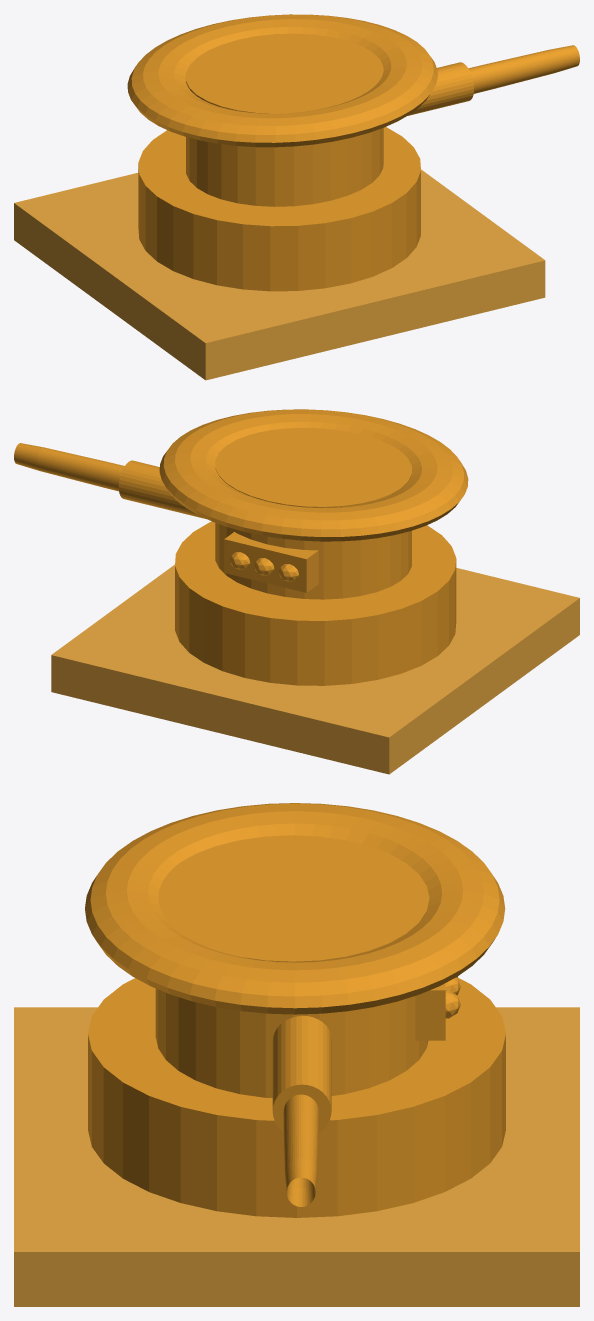
File: turrent1.fbx
The picture shows the model from 3 angles, top to bottom: view 1: azimuth 30°, elevation 25°; view 2: azimuth 150°, elevation 25°; view 3: azimuth 270°, elevation 25°; orthographic projection. The views are drawn at different scales.
Parts seen in each view (by area): view 1: Cube, Cylinder, Cylinder.001, Torus, Torus.001, Cylinder.002; view 2: Cube, Cylinder, Torus, Cylinder.001, Cube.001, Torus.001, Cylinder.002; view 3: Cube, Cylinder, Cylinder.001, Torus, Cylinder.002, Torus.001, Cube.001.
Part boxes in pixels (box(x1,y1,x2,y2)): Cube: box(14, 169, 545, 380); Cylinder: box(138, 127, 420, 291); Cylinder.001: box(186, 33, 383, 206); Torus: box(127, 14, 437, 147); Torus.001: box(468, 45, 579, 93); Cylinder.002: box(408, 62, 473, 115); Cube: box(51, 564, 579, 774); Cylinder: box(175, 521, 456, 685); Torus: box(159, 409, 468, 541); Cylinder.001: box(215, 428, 411, 599); Cube.001: box(224, 532, 318, 592); Torus.001: box(14, 443, 124, 491); Cylinder.002: box(118, 460, 205, 518); Cube: box(14, 1007, 579, 1306); Cylinder: box(88, 978, 505, 1217); Cylinder.001: box(155, 835, 429, 1097); Torus: box(85, 803, 505, 1014); Cylinder.002: box(272, 1015, 331, 1132); Torus.001: box(283, 1094, 318, 1206); Cube.001: box(415, 983, 445, 1040).
Size of the model in its own units: 380 by 156 by 271.
